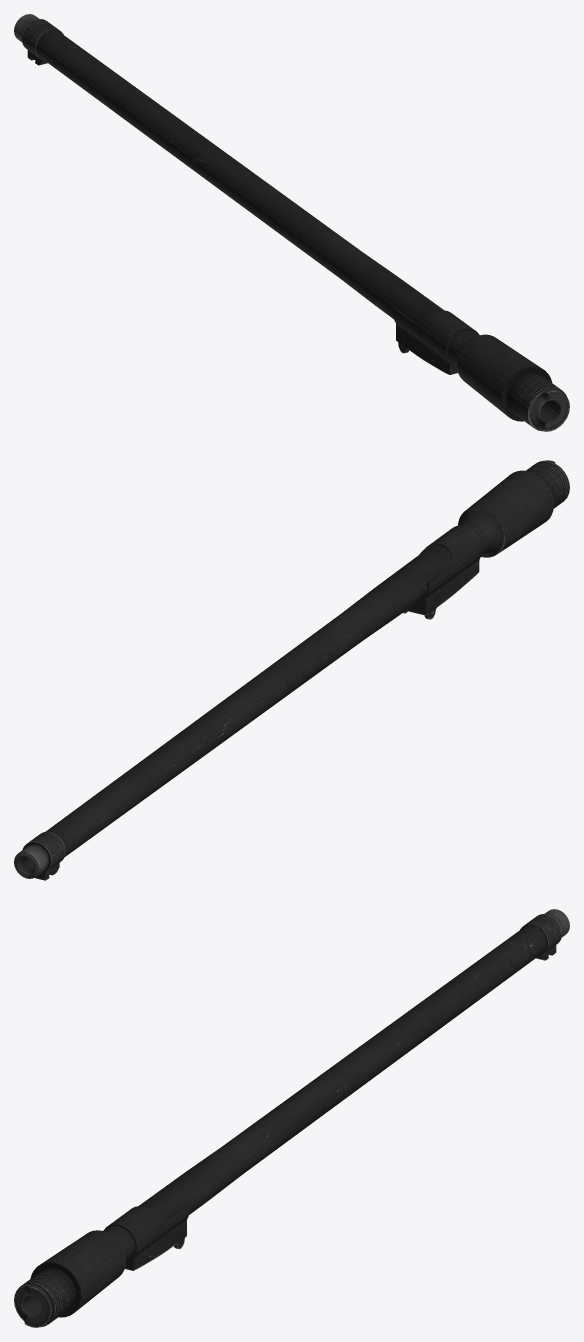
3 renders of one model, top to bottom at view 1: azimuth 30°, elevation 25°; view 2: azimuth 150°, elevation 25°; view 3: azimuth 330°, elevation 25°, orthographic.
Visible parts, largest first — view 1: TW_5bfd4cbe0db834001b73449f_PZ_Import; view 2: TW_5bfd4cbe0db834001b73449f_PZ_Import; view 3: TW_5bfd4cbe0db834001b73449f_PZ_Import.
Boxes of the visible parts, x1,y1,x2,y2 form: TW_5bfd4cbe0db834001b73449f_PZ_Import: (14,14,569,431); TW_5bfd4cbe0db834001b73449f_PZ_Import: (14,460,569,880); TW_5bfd4cbe0db834001b73449f_PZ_Import: (14,909,569,1327).
Bounding box in the file's own units: 0.0173 × 0.3067 × 0.0204.
1 material, 1 textured.
